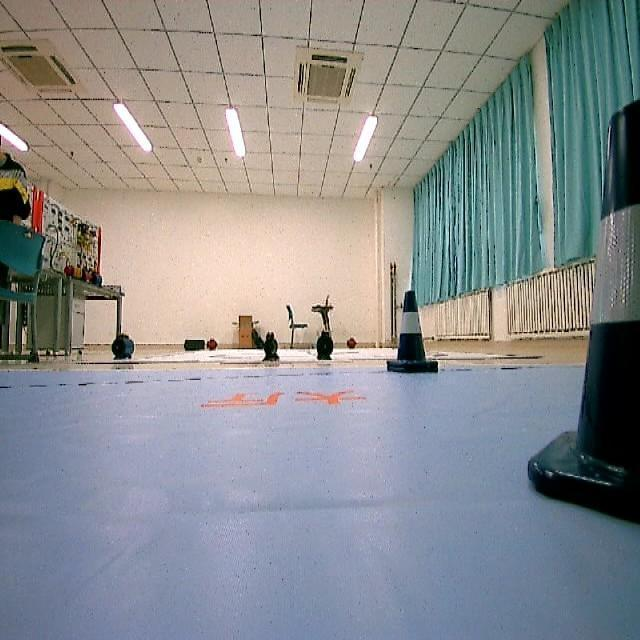obstacle: (519, 114, 640, 516), (380, 284, 442, 382)
